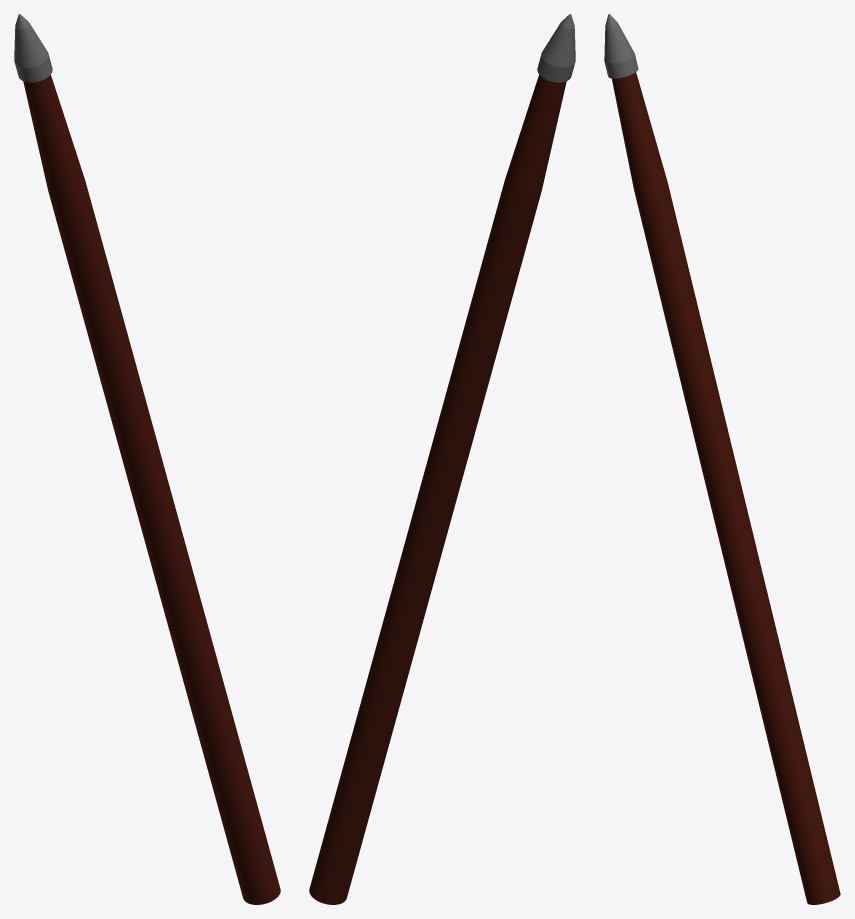
Rendered from spear .fbx.
3 renders of one model, left to right at view 1: azimuth 30°, elevation 25°; view 2: azimuth 150°, elevation 25°; view 3: azimuth 330°, elevation 25°, orthographic. The views are drawn at different scales.
Visible parts, largest first — view 1: Cube.006; view 2: Cube.006; view 3: Cube.006.
Boxes of the visible parts, x1=… form: Cube.006: x1=14, y1=14, x2=280, y2=904; Cube.006: x1=309, y1=14, x2=575, y2=904; Cube.006: x1=604, y1=14, x2=840, y2=904.
Bounding box in the file's own units: 60.02 × 207 × 8.14.
